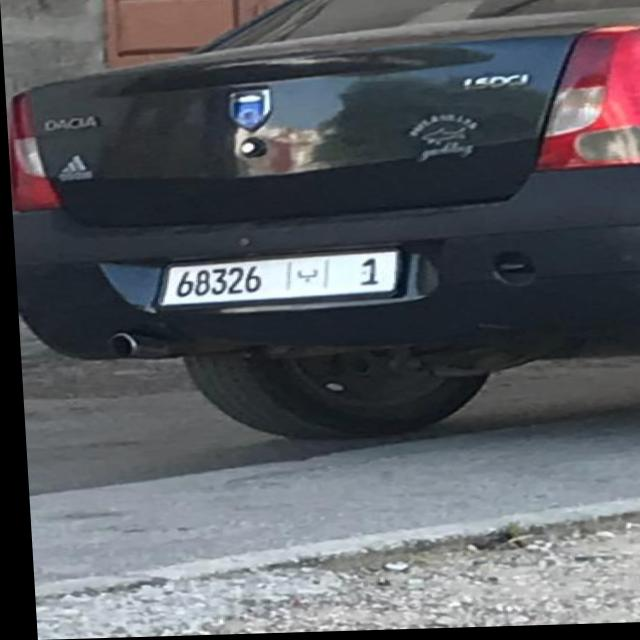License-Plate: (154, 253, 397, 308)
